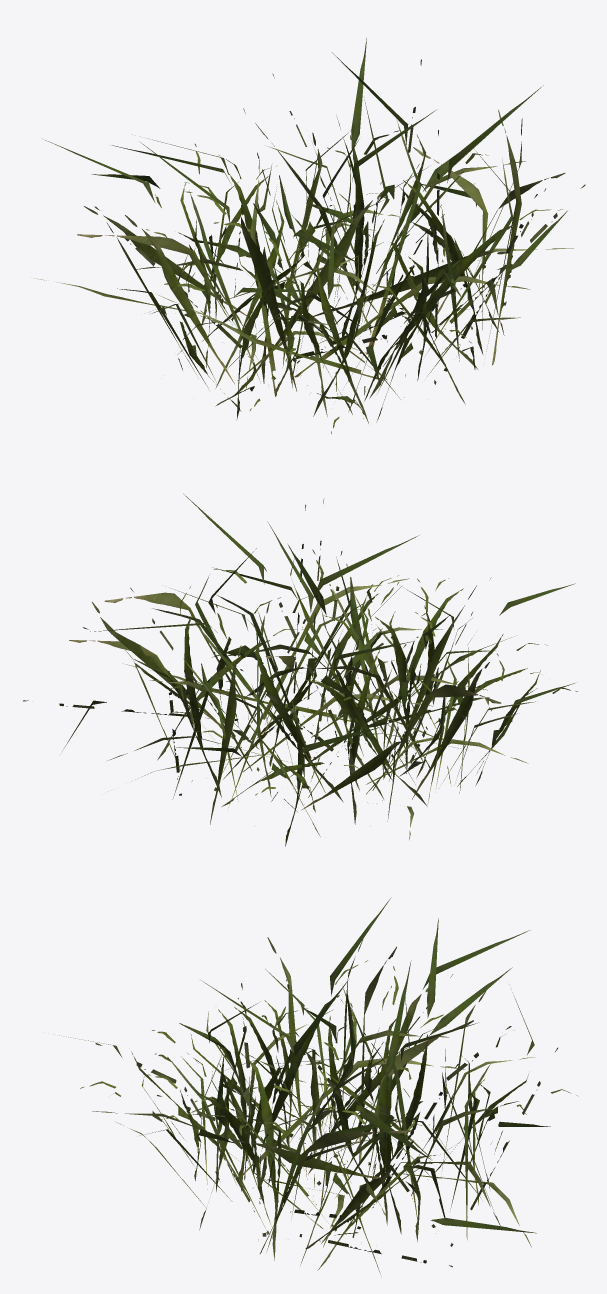
File: ph_grass_medium_01.glb
The picture shows the model from 3 angles, top to bottom: view 1: azimuth 30°, elevation 25°; view 2: azimuth 150°, elevation 25°; view 3: azimuth 270°, elevation 25°; orthographic projection. The views are drawn at different scales.
Visible parts, largest first — view 1: grass_medium_01_large_a_LOD0; view 2: grass_medium_01_large_a_LOD0; view 3: grass_medium_01_large_a_LOD0.
Part boxes in pixels (left/top/right/bottom): grass_medium_01_large_a_LOD0: left=36, top=38, right=585, bottom=433; grass_medium_01_large_a_LOD0: left=23, top=493, right=577, bottom=846; grass_medium_01_large_a_LOD0: left=59, top=897, right=578, bottom=1276.
Bounding box in the file's own units: 0.3407 × 0.1932 × 0.344.
1 material, 1 textured.
